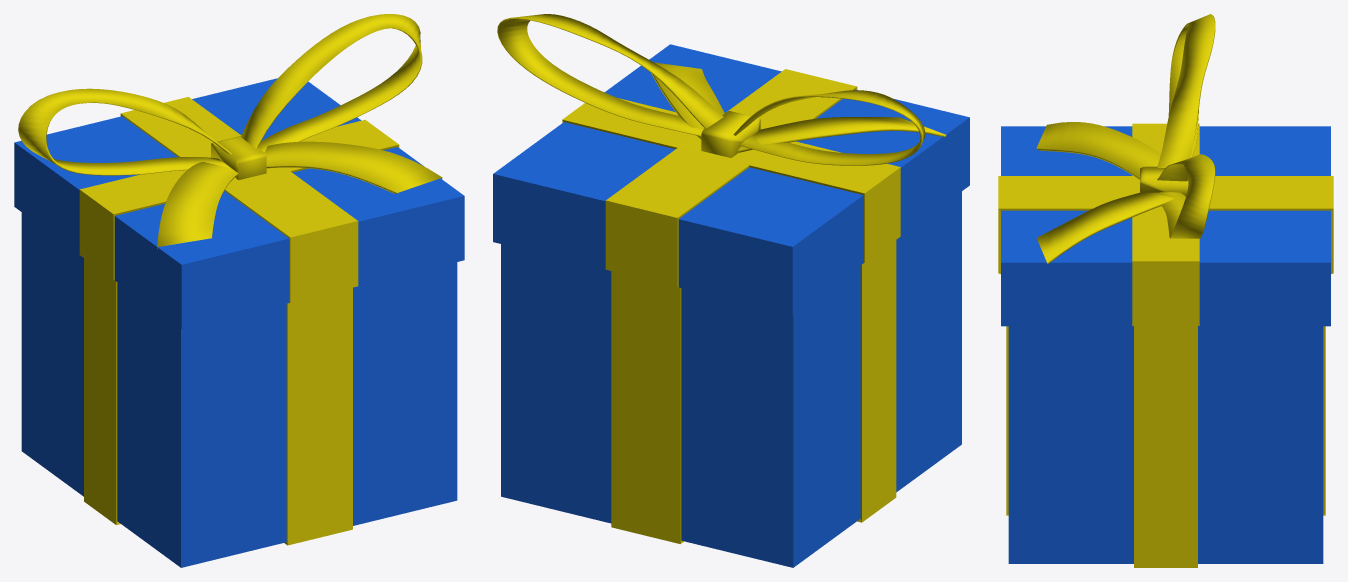
The model's file is Present.fbx.
3 renders of one model, left to right at view 1: azimuth 30°, elevation 25°; view 2: azimuth 150°, elevation 25°; view 3: azimuth 270°, elevation 25°, orthographic. The views are drawn at different scales.
Visible parts, largest first — view 1: present; view 2: present; view 3: present.
Boxes of the visible parts, x1,y1,x2,y2 form: present: [14, 14, 464, 567]; present: [493, 14, 969, 567]; present: [998, 14, 1333, 567].
Size of the model in its own units: 761 by 741 by 556.
